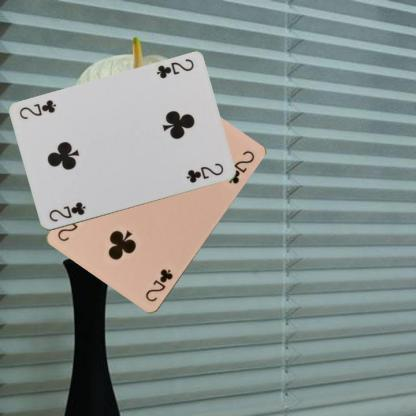2c: (142, 266, 174, 304), (46, 199, 87, 224), (154, 56, 195, 80)
